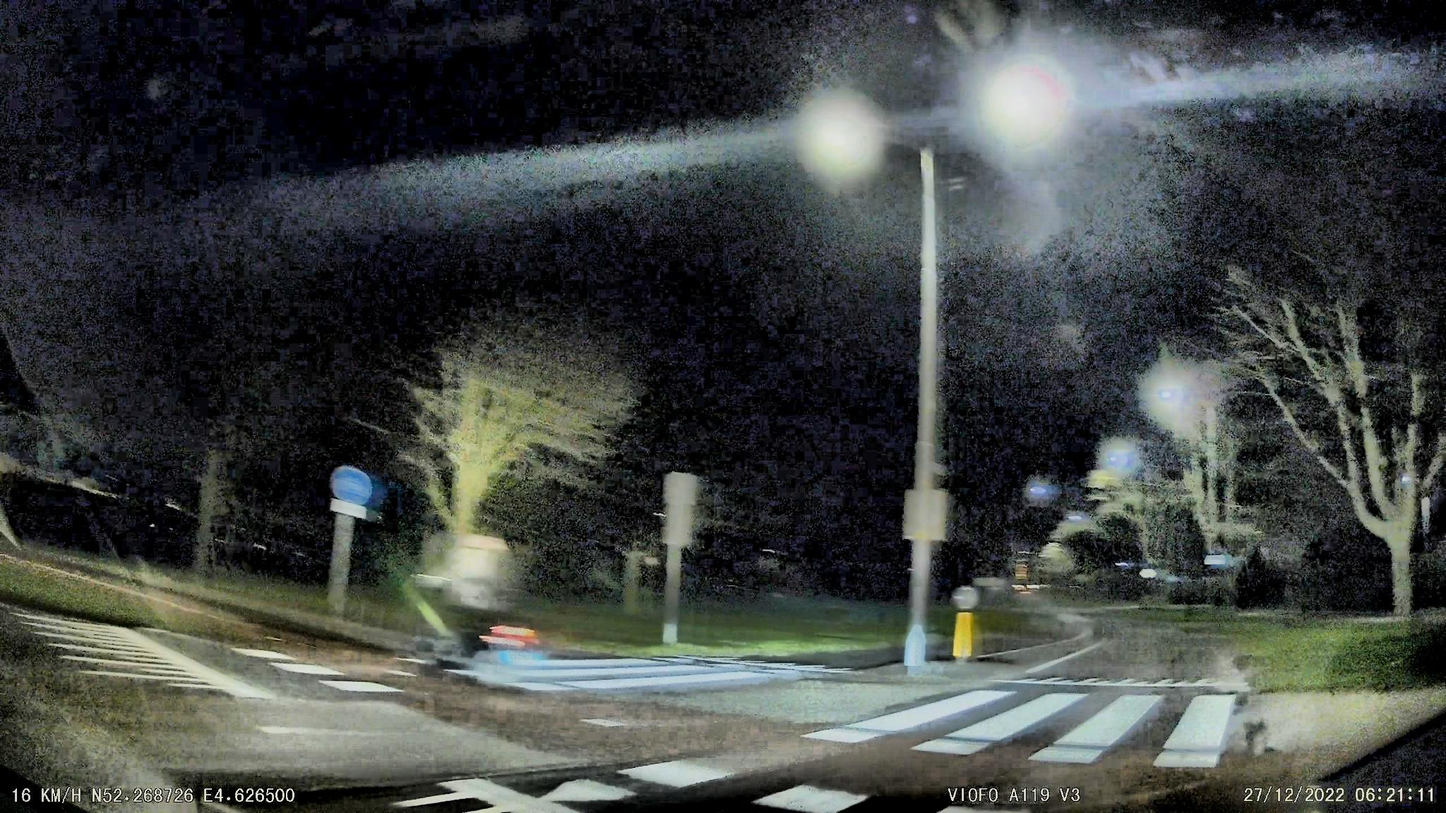Roads: (541, 640, 1236, 813)
